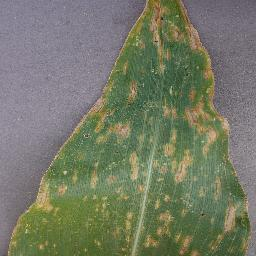Gray_Leaf_Spot: (160, 0, 251, 256), (122, 0, 160, 256), (84, 52, 121, 256), (6, 152, 68, 256), (58, 116, 83, 151), (70, 154, 82, 189)
